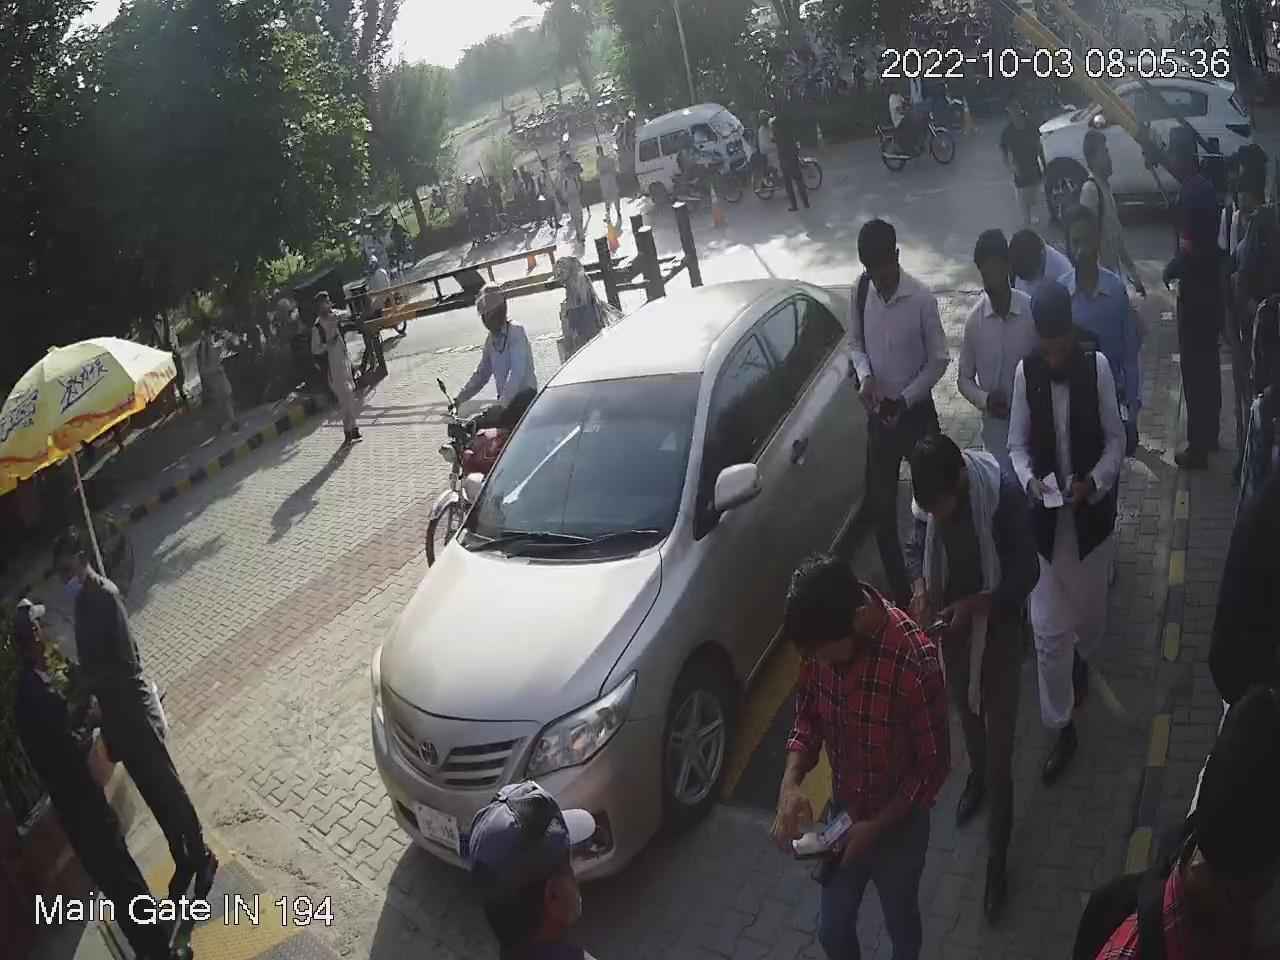windshield: (461, 370, 711, 541)
